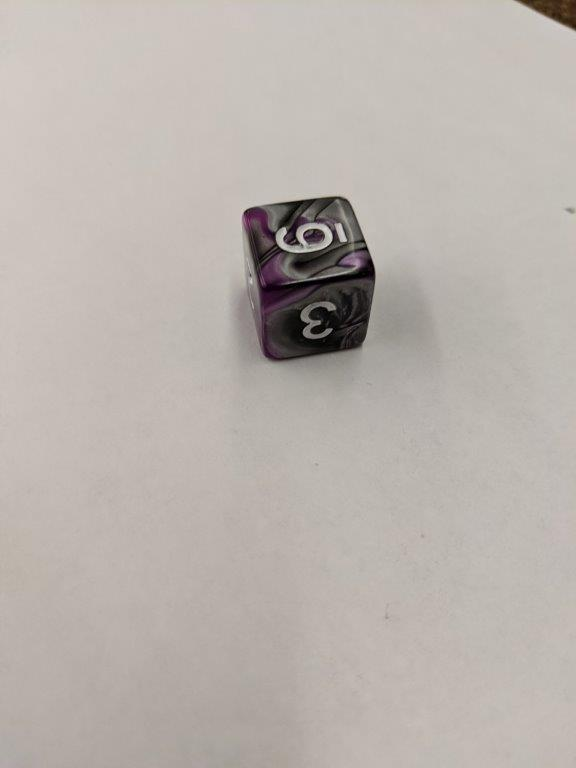d6-6: (243, 195, 374, 362)
